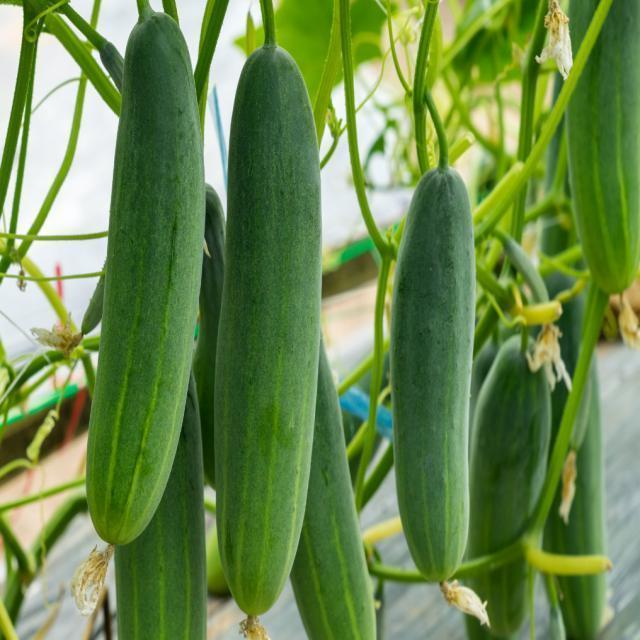cucumber: (84, 10, 208, 551), (210, 44, 325, 619), (388, 153, 478, 590), (287, 341, 381, 639), (110, 369, 207, 639), (472, 326, 551, 639), (541, 271, 605, 639), (562, 1, 638, 304), (195, 180, 222, 500)
